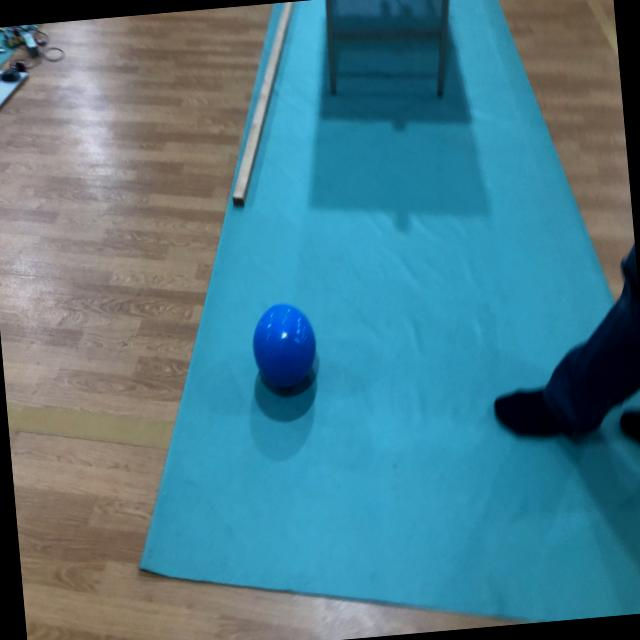blue_ball: (248, 304, 316, 391)
